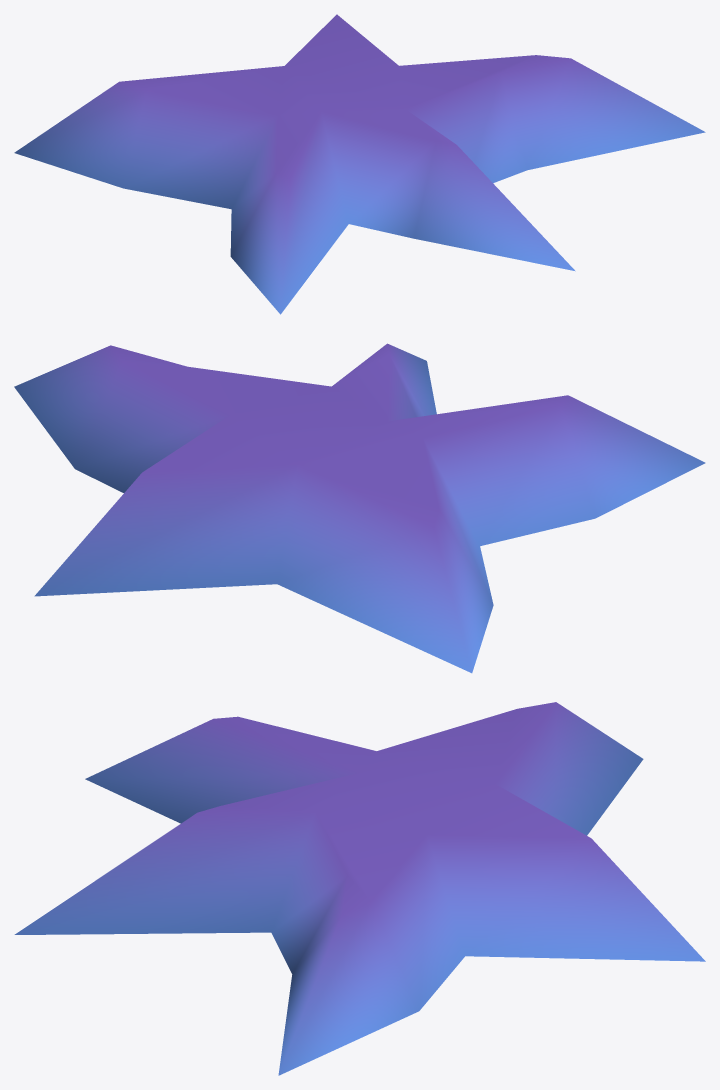
Rendered from M_haixing02.FBX.
3 renders of one model, top to bottom at view 1: azimuth 30°, elevation 25°; view 2: azimuth 150°, elevation 25°; view 3: azimuth 270°, elevation 25°, orthographic. The views are drawn at different scales.
Visible parts, largest first — view 1: M_haixing02; view 2: M_haixing02; view 3: M_haixing02.
Boxes of the visible parts, x1=… form: M_haixing02: x1=14, y1=14, x2=705, y2=314; M_haixing02: x1=14, y1=343, x2=705, y2=673; M_haixing02: x1=14, y1=702, x2=705, y2=1075.
Bounding box in the file's own units: 0.5598 × 0.0802 × 0.5166.
